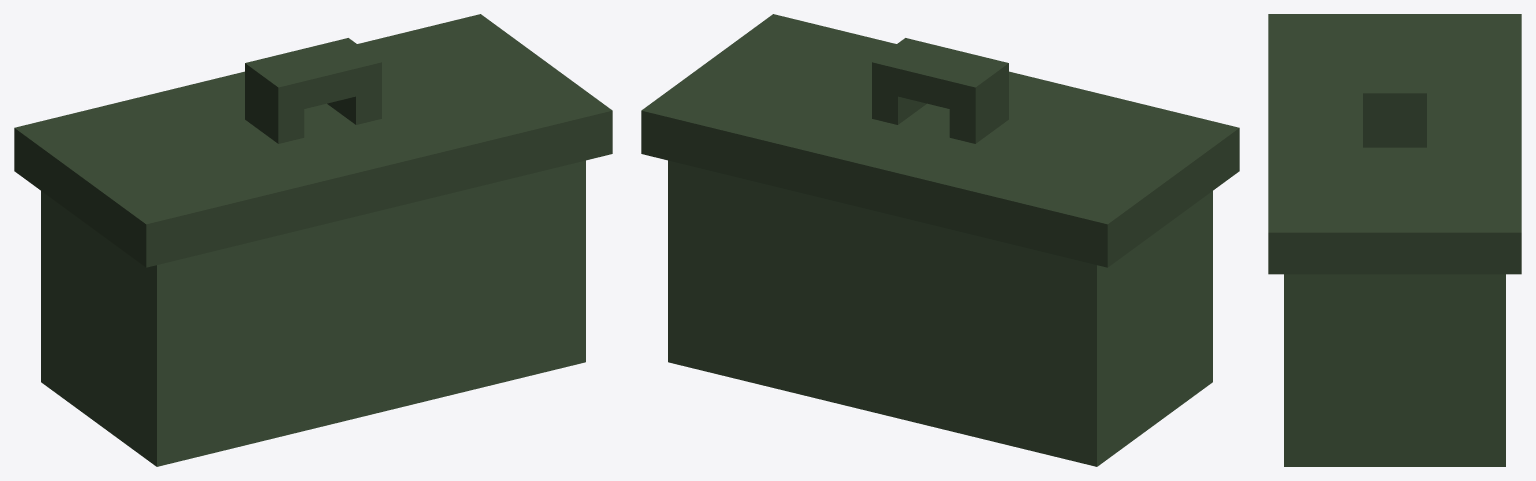
The model's file is ammoBox.fbx.
3 renders of one model, left to right at view 1: azimuth 30°, elevation 25°; view 2: azimuth 150°, elevation 25°; view 3: azimuth 270°, elevation 25°, orthographic. The views are drawn at different scales.
Parts seen in each view (by area): view 1: Cube; view 2: Cube; view 3: Cube.
Boxes of the visible parts, box(x1,y1,x2,y2) form: Cube: box(14, 14, 612, 466); Cube: box(641, 14, 1239, 466); Cube: box(1268, 14, 1521, 466).
Size of the model in its own units: 465 by 295 by 228.
Materials: 1 (1 with a texture image).
